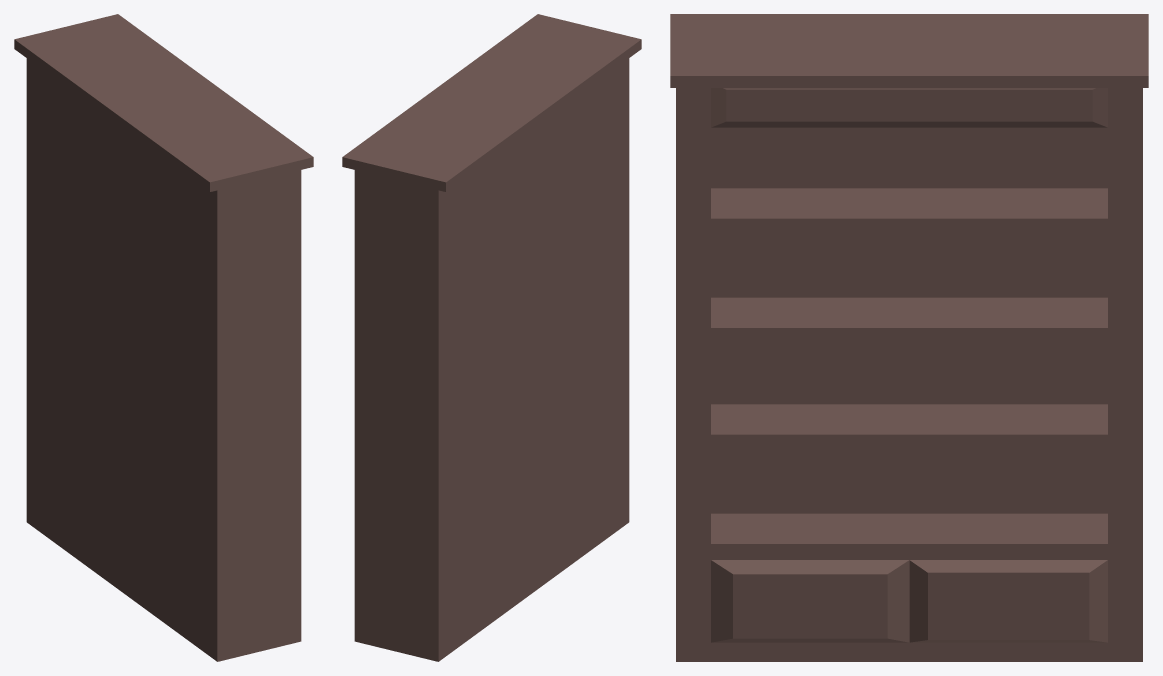
The model's file is bookshelf.fbx.
The picture shows the model from 3 angles, left to right: view 1: azimuth 30°, elevation 25°; view 2: azimuth 150°, elevation 25°; view 3: azimuth 270°, elevation 25°; orthographic projection. The views are drawn at different scales.
Visible parts, largest first — view 1: pCube1; view 2: pCube1; view 3: pCube1.
Part boxes in pixels (left/top/right/bottom): pCube1: left=14, top=14, right=313, bottom=661; pCube1: left=342, top=14, right=641, bottom=661; pCube1: left=670, top=14, right=1148, bottom=661.
Size of the model in its own units: 2.07 by 9.21 by 6.75.
